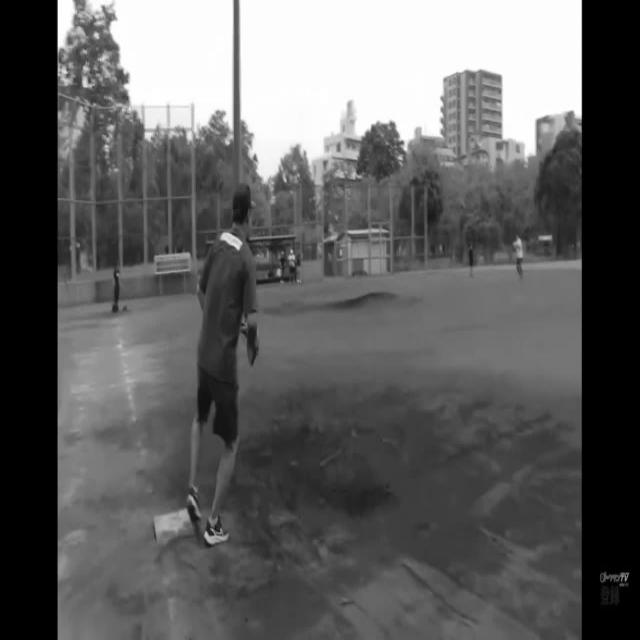base: (153, 508, 191, 542)
baseball_glove: (246, 323, 260, 366)
shoe: (202, 508, 228, 550), (188, 487, 204, 524)
